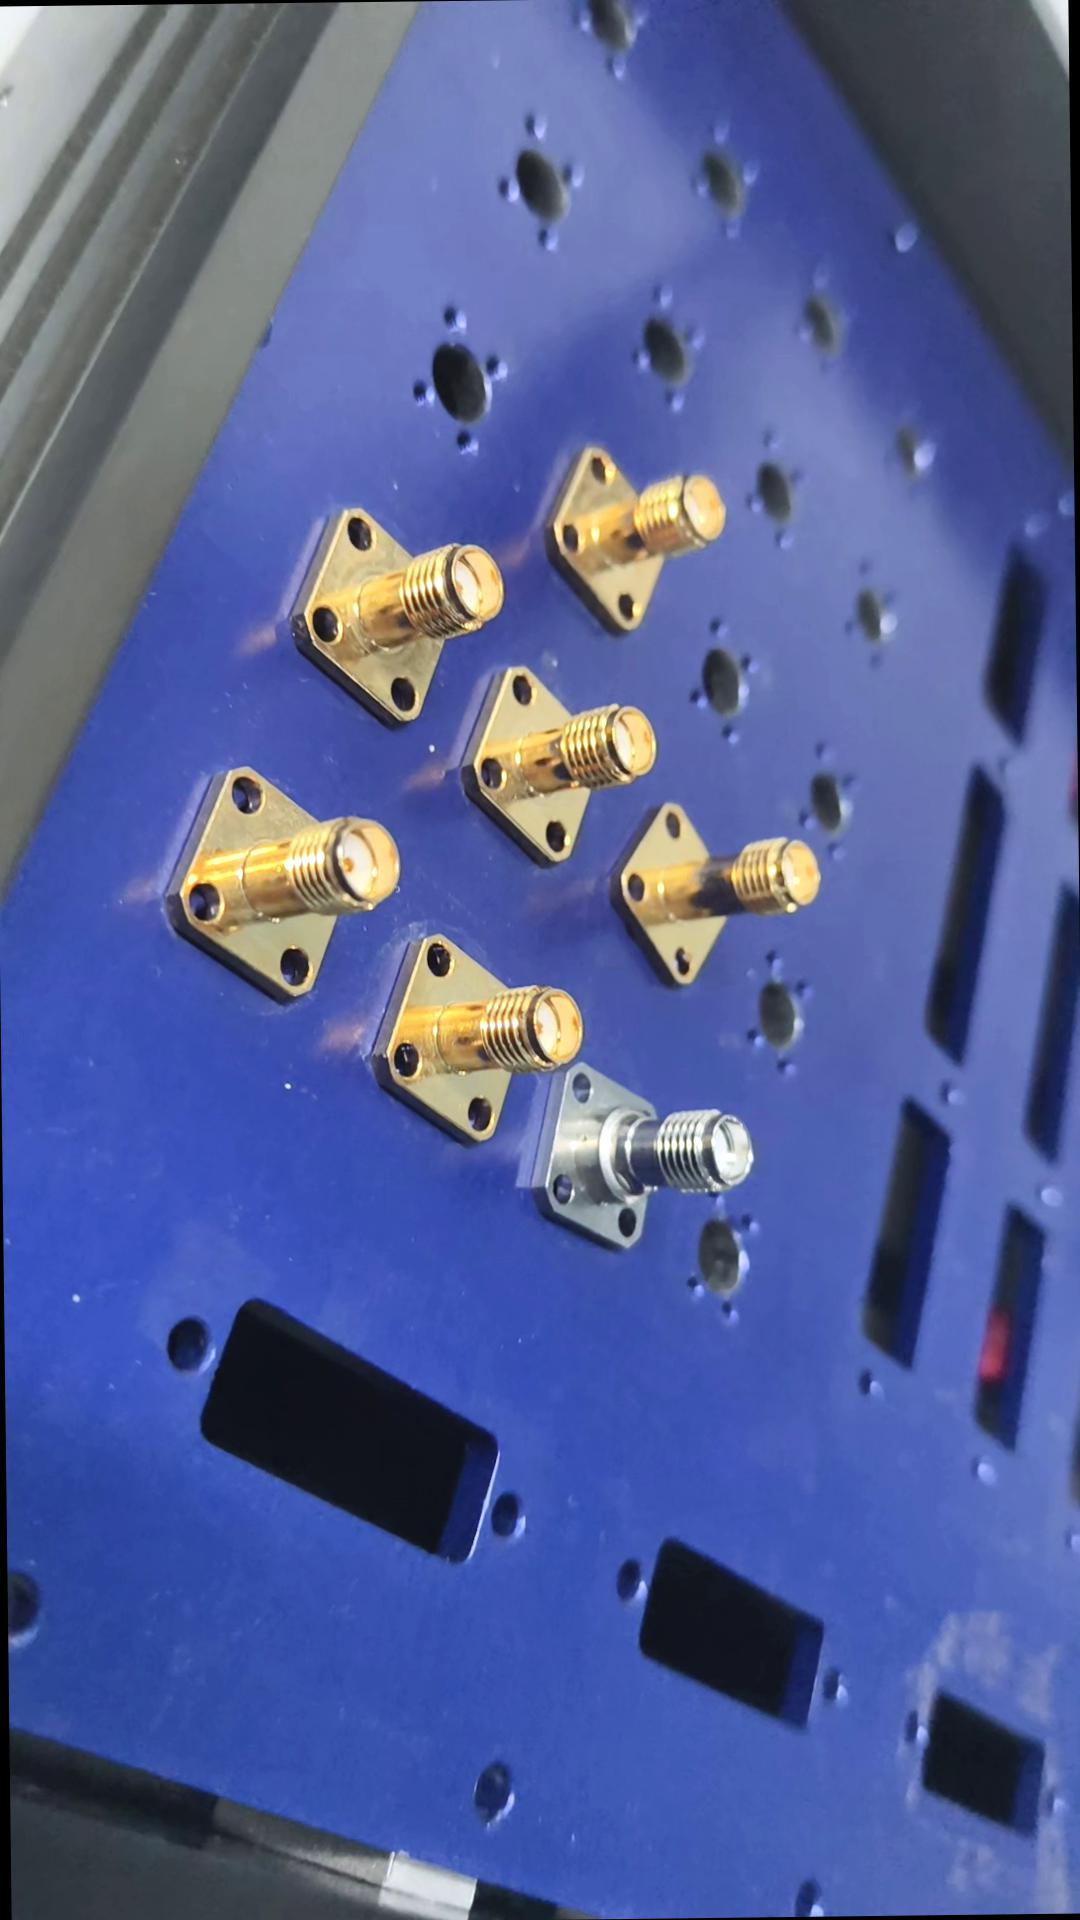SMA: (162, 764, 404, 1002), (291, 502, 504, 732), (531, 1043, 762, 1254), (378, 928, 587, 1139), (459, 651, 659, 862), (620, 790, 823, 984), (553, 436, 733, 637)
